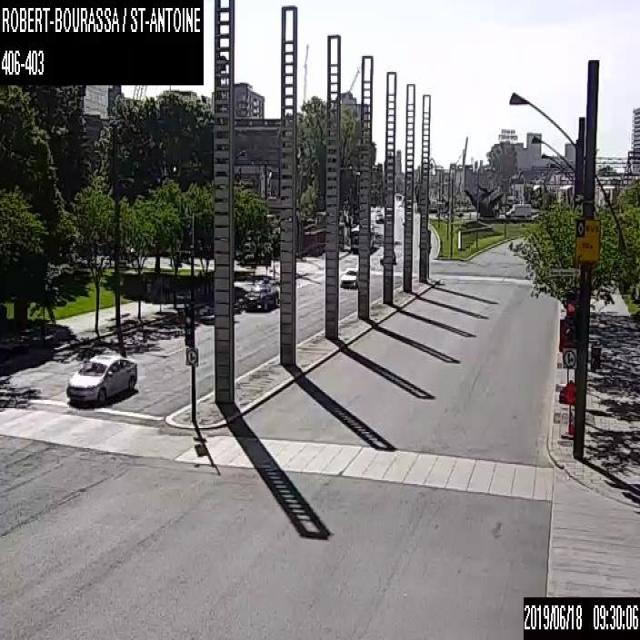bus: (350, 222, 375, 252)
construction: (557, 380, 574, 439)
vehicle: (66, 352, 137, 403), (242, 278, 278, 310), (339, 267, 357, 288), (379, 252, 396, 264), (375, 212, 383, 222)
